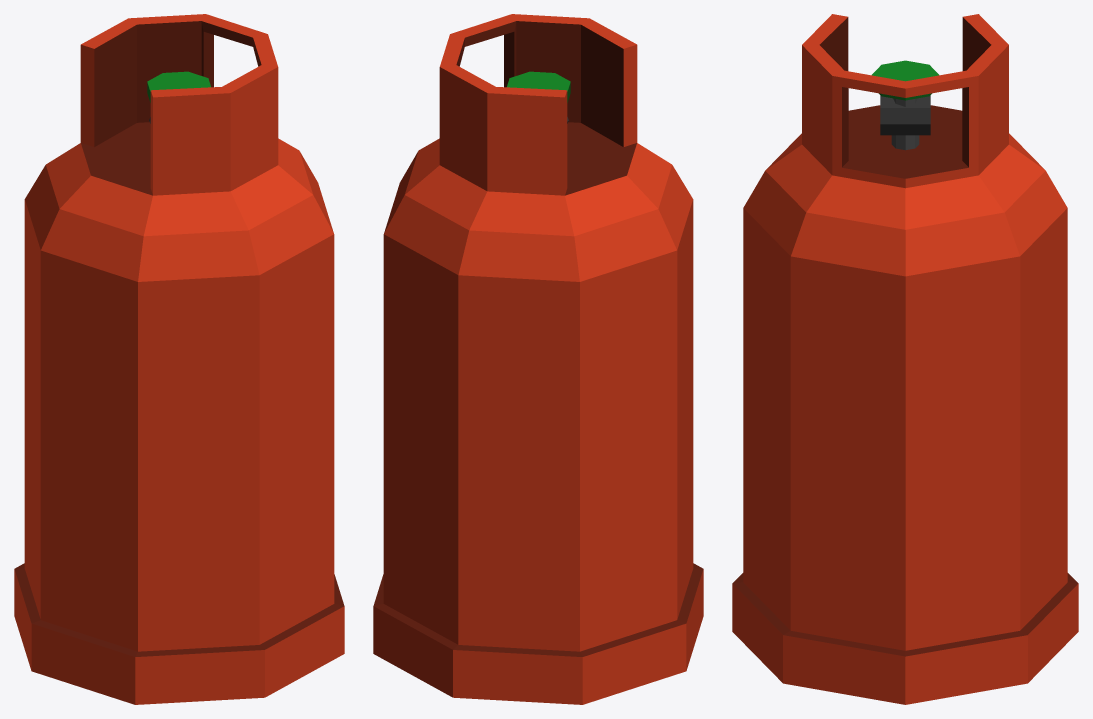
File: gas.fbx
3 renders of one model, left to right at view 1: azimuth 30°, elevation 25°; view 2: azimuth 150°, elevation 25°; view 3: azimuth 270°, elevation 25°, orthographic.
Visible parts, largest first — view 1: gas; view 2: gas; view 3: gas.
Part boxes in pixels (bbox=[...]): gas: bbox=[14, 14, 344, 704]; gas: bbox=[373, 14, 703, 704]; gas: bbox=[732, 14, 1078, 704].
Bounding box in the file's own units: 213 × 399 × 213.
